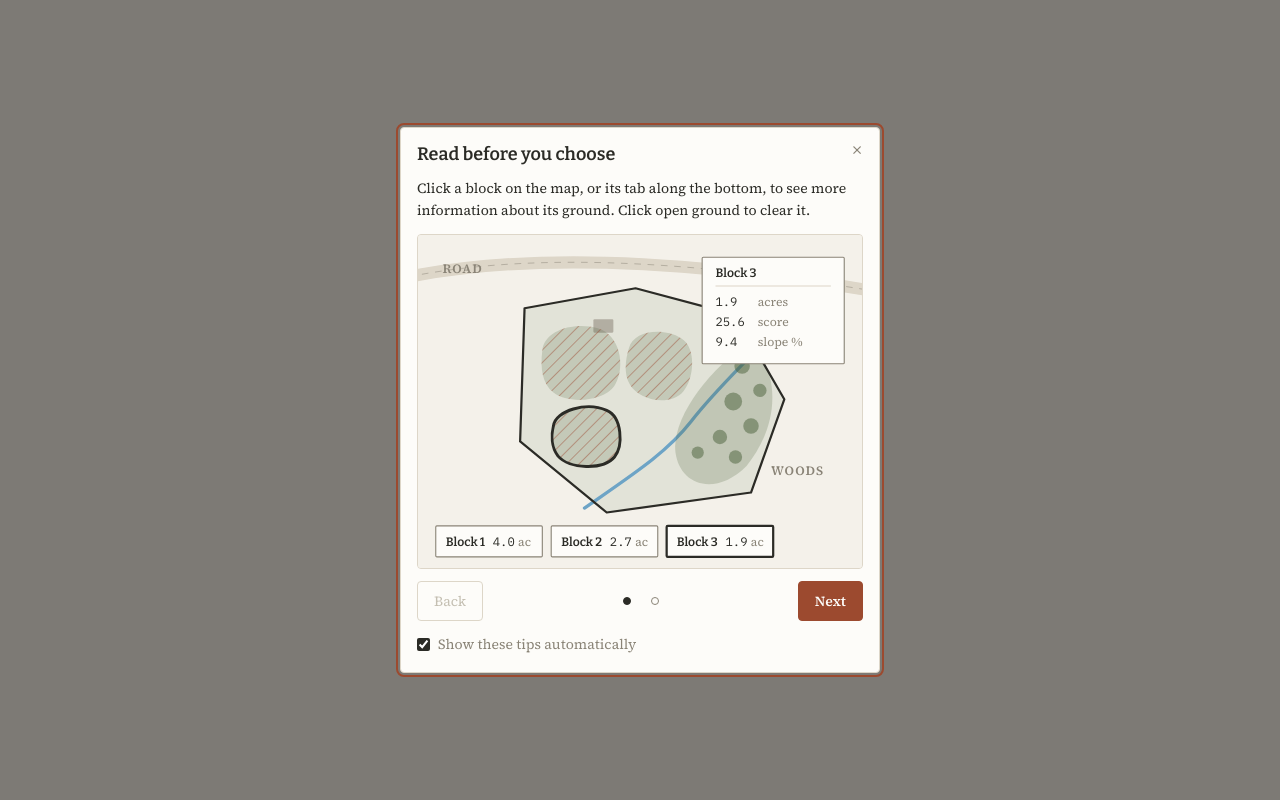
Test: 2. the copy › says exactly the spec on card two, its third sentence set in weight
This screenshot has width=1280, height=800.
What coordinates should you click on to do the following:
click the button "Next"
I would click on:
 (830, 601)
Its box is x1=798 y1=581 x2=863 y2=621.
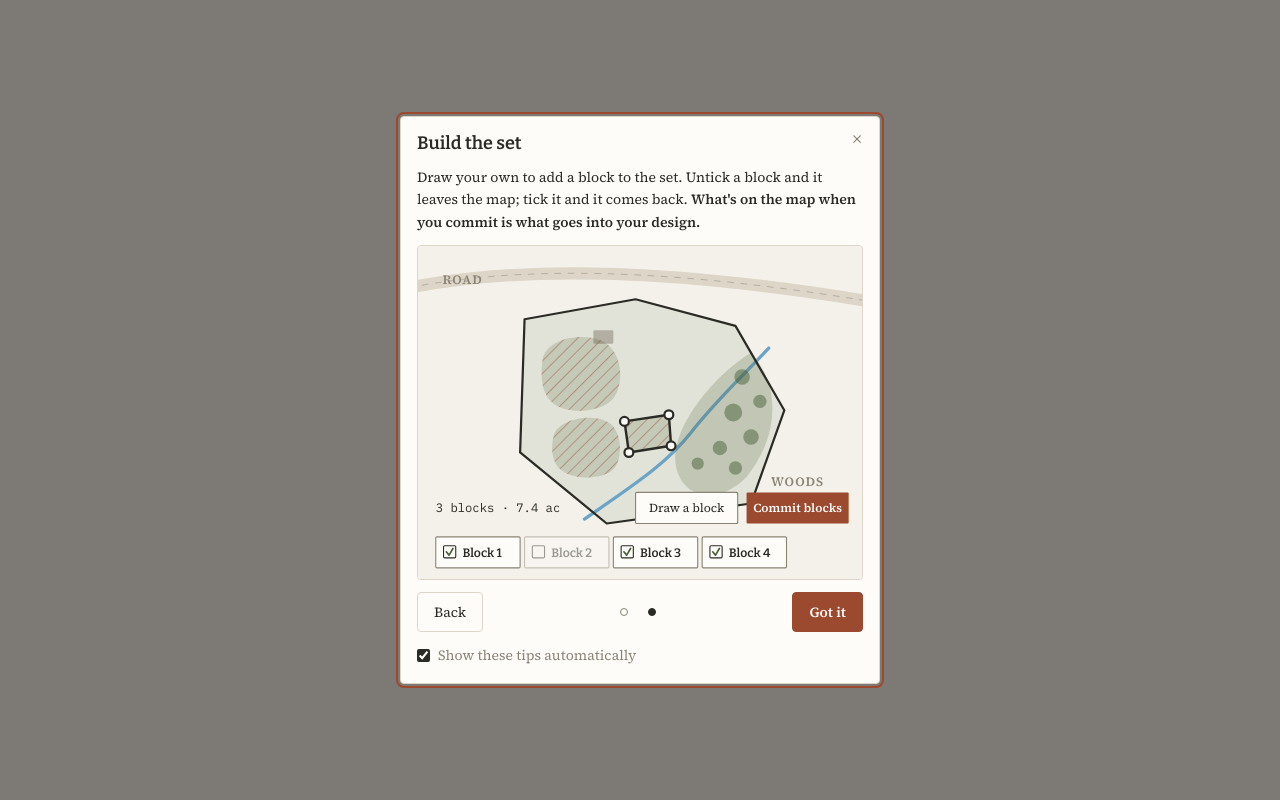
Expected: the number of elements with class "tutorial__em" is 1, x1=417 y1=189 x2=856 y2=232
Expected: the text with class "tutorial__em" reads "What's on the map when you commit is what goes into your design.", x1=417 y1=189 x2=856 y2=232
